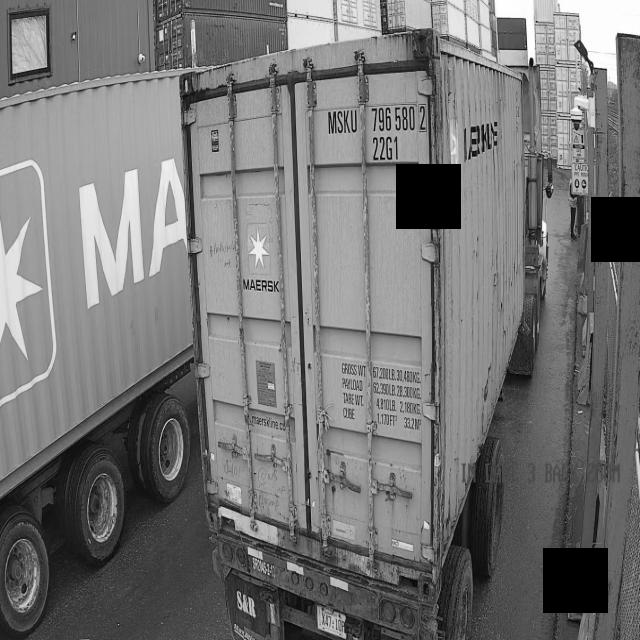container_company_logo: (243, 223, 279, 292)
container_number: (319, 91, 453, 172)
driver: (565, 173, 577, 247)
license_plate: (317, 606, 345, 638)
other_container_info: (340, 352, 425, 434)
truck_with_container: (180, 29, 553, 640), (0, 72, 193, 637)
